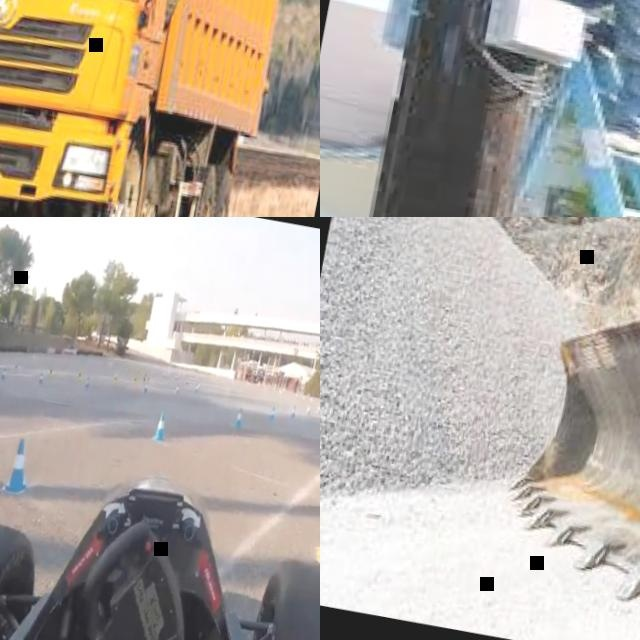Person: (494, 0, 640, 163)
Safety Cone: (0, 432, 37, 504), (150, 406, 172, 447), (231, 404, 246, 435), (266, 405, 277, 428), (36, 371, 46, 389), (83, 376, 92, 394), (111, 373, 119, 389), (289, 407, 297, 422), (0, 366, 5, 382)
machinery: (0, 0, 320, 217), (494, 217, 640, 640)
vehicle: (0, 430, 320, 640)
